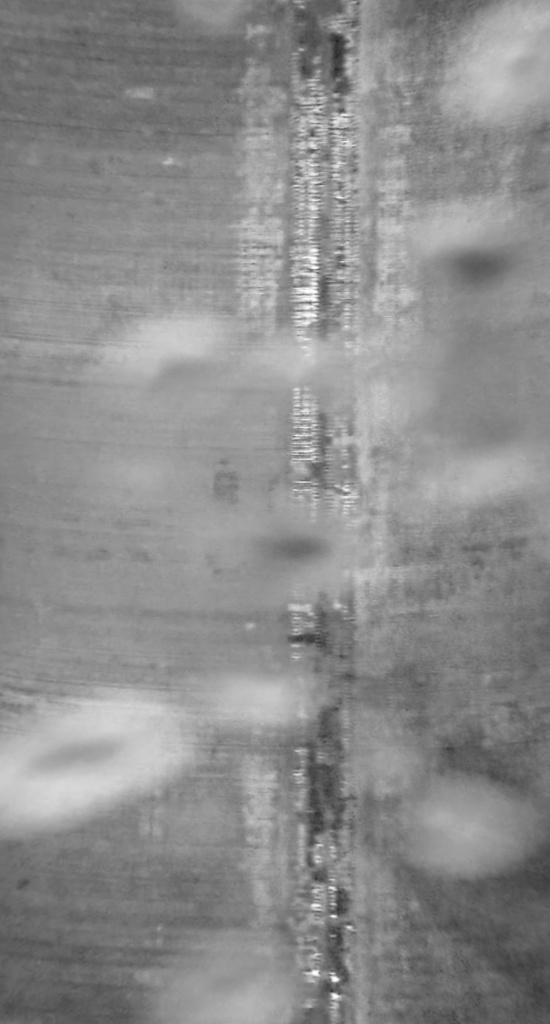splice: (270, 1, 367, 1024)
